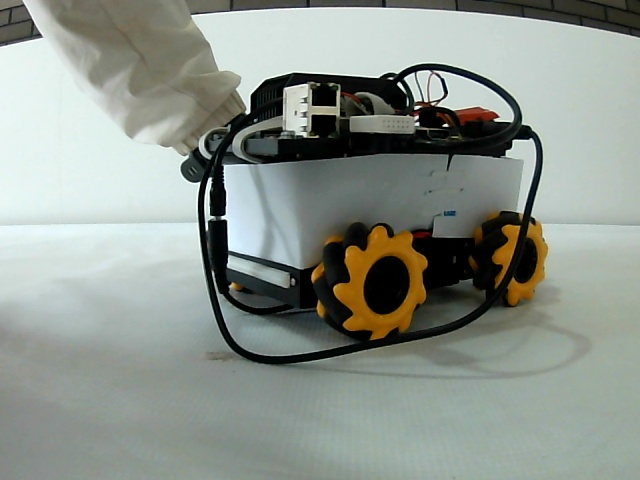car: (207, 70, 548, 340)
paper: (224, 163, 519, 221)
